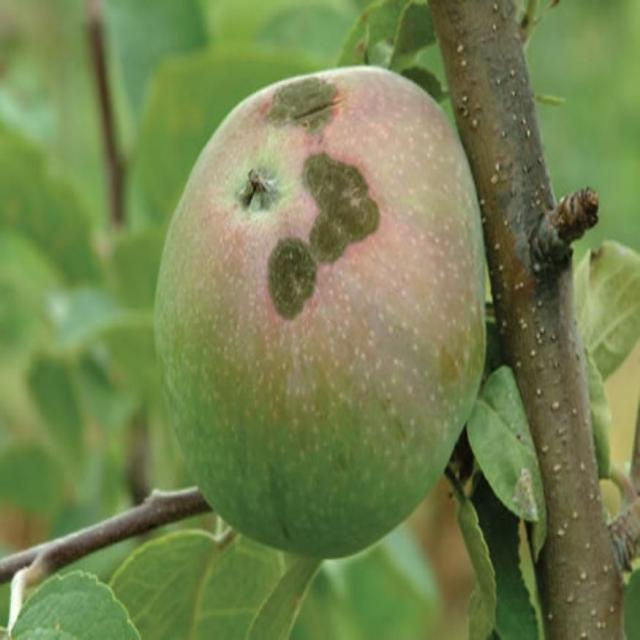Rotten Apple: (136, 42, 514, 592)
